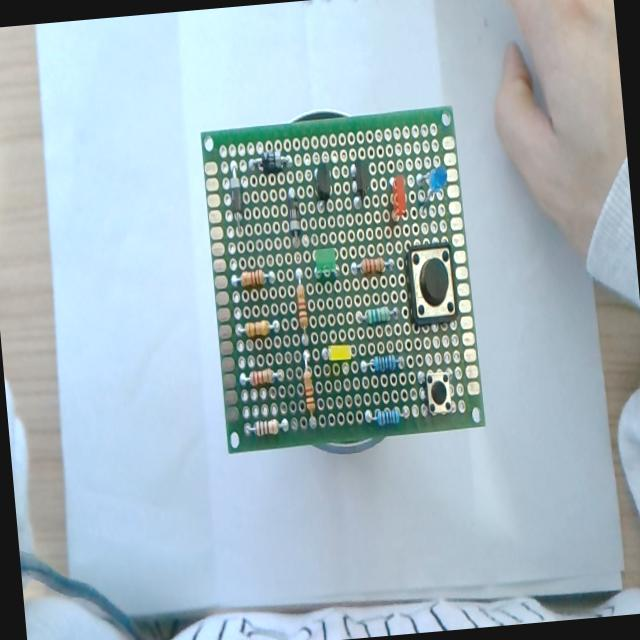diode: (248, 149, 292, 175), (227, 166, 244, 231), (285, 188, 302, 240)
led: (416, 164, 450, 212), (386, 173, 408, 224), (312, 246, 339, 280), (322, 341, 352, 367)
resistor: (293, 273, 317, 411), (364, 402, 409, 426), (362, 352, 404, 374), (357, 304, 398, 325), (234, 267, 273, 289), (350, 256, 390, 276), (246, 417, 286, 437), (238, 319, 278, 338), (242, 367, 282, 386), (303, 370, 316, 414), (296, 284, 308, 328)
switch: (405, 242, 458, 326), (417, 369, 456, 415)
transistor: (348, 158, 371, 206), (312, 162, 333, 210)
